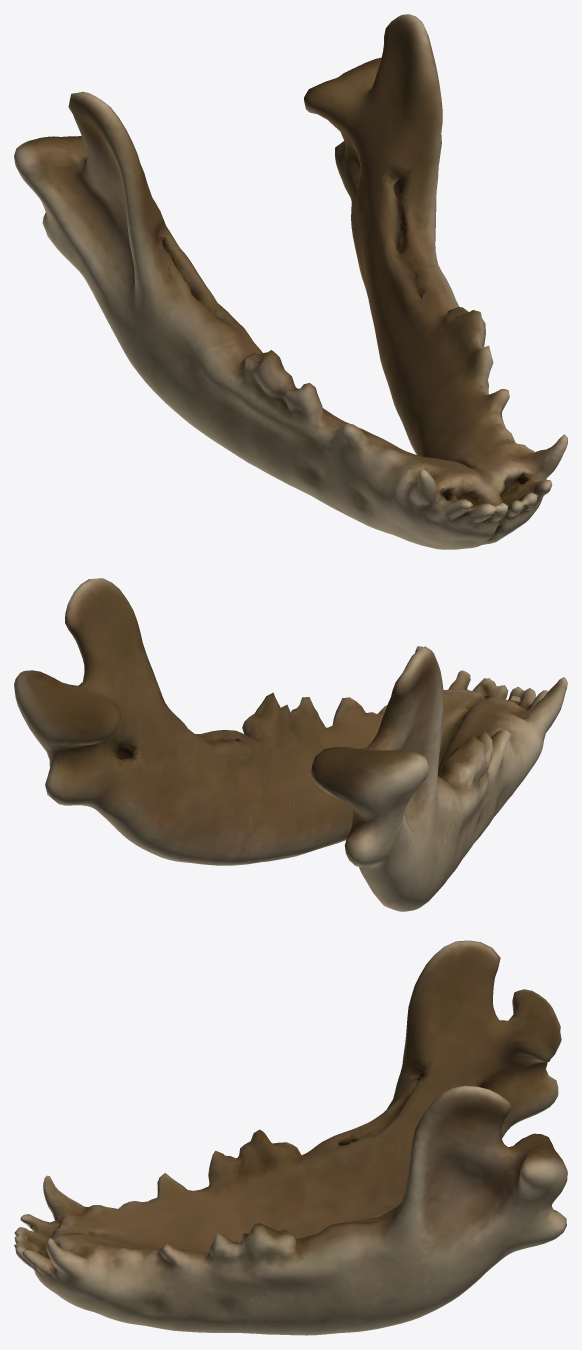
File: Mandible.glb
3 renders of one model, top to bottom at view 1: azimuth 30°, elevation 25°; view 2: azimuth 150°, elevation 25°; view 3: azimuth 270°, elevation 25°, orthographic. The views are drawn at different scales.
Visible parts, largest first — view 1: Mandible1:Group49655; view 2: Mandible1:Group49655; view 3: Mandible1:Group49655.
Part boxes in pixels (x1=…): Mandible1:Group49655: x1=14, y1=14, x2=567, y2=549; Mandible1:Group49655: x1=14, y1=578, x2=567, y2=911; Mandible1:Group49655: x1=14, y1=940, x2=567, y2=1335.
Bounding box in the file's own units: 83.49 × 68.6 × 113.
Materials: 1 (1 with a texture image).
